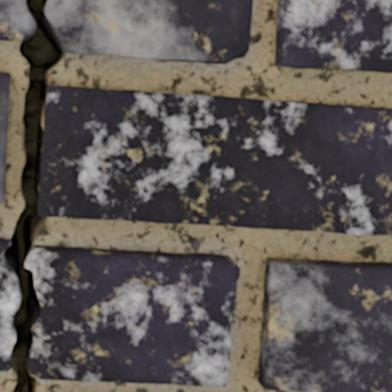brick: (39, 86, 391, 234), (258, 258, 391, 391), (275, 0, 391, 72), (0, 73, 9, 202)
broken_brick: (26, 244, 240, 387), (46, 0, 253, 64), (0, 258, 18, 372), (0, 0, 33, 41), (0, 237, 9, 253)
crack: (0, 0, 65, 391), (164, 58, 189, 62), (206, 61, 222, 64), (237, 54, 244, 57)
